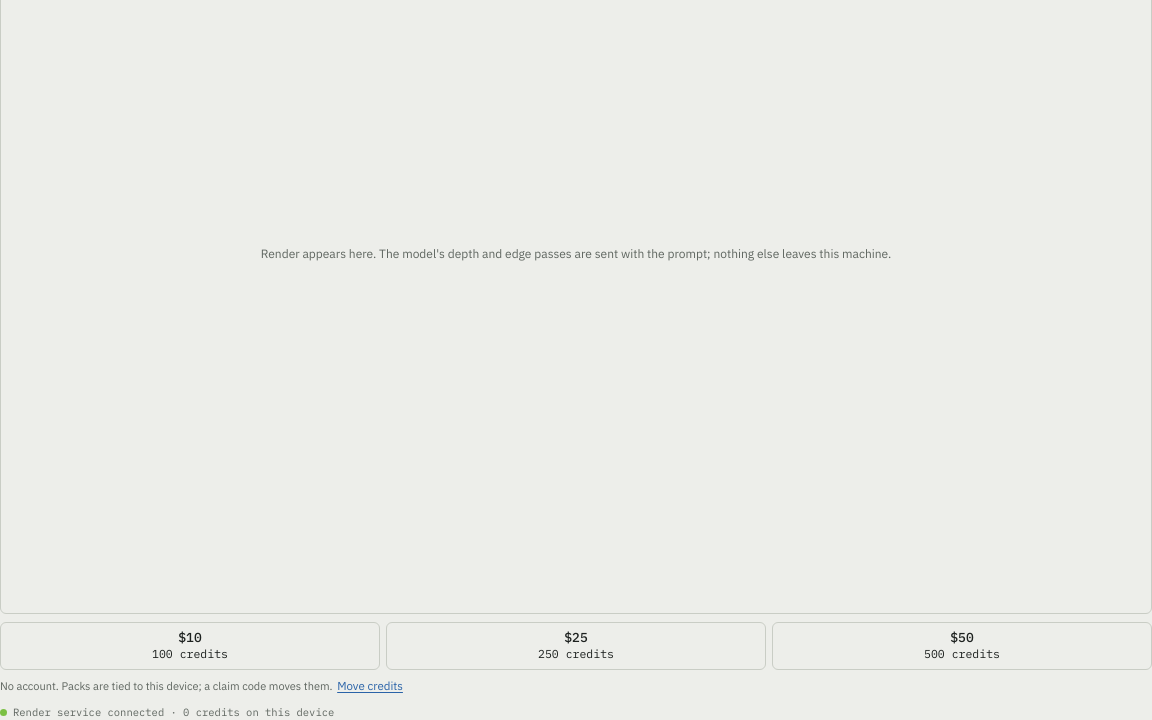
Test: Render pane › opens checkout in a new window from the click and watches for the credits
(page scrolled)
Click the button "$10 100 credits" at (190, 646), box [0,622,380,670]
(page scrolled)
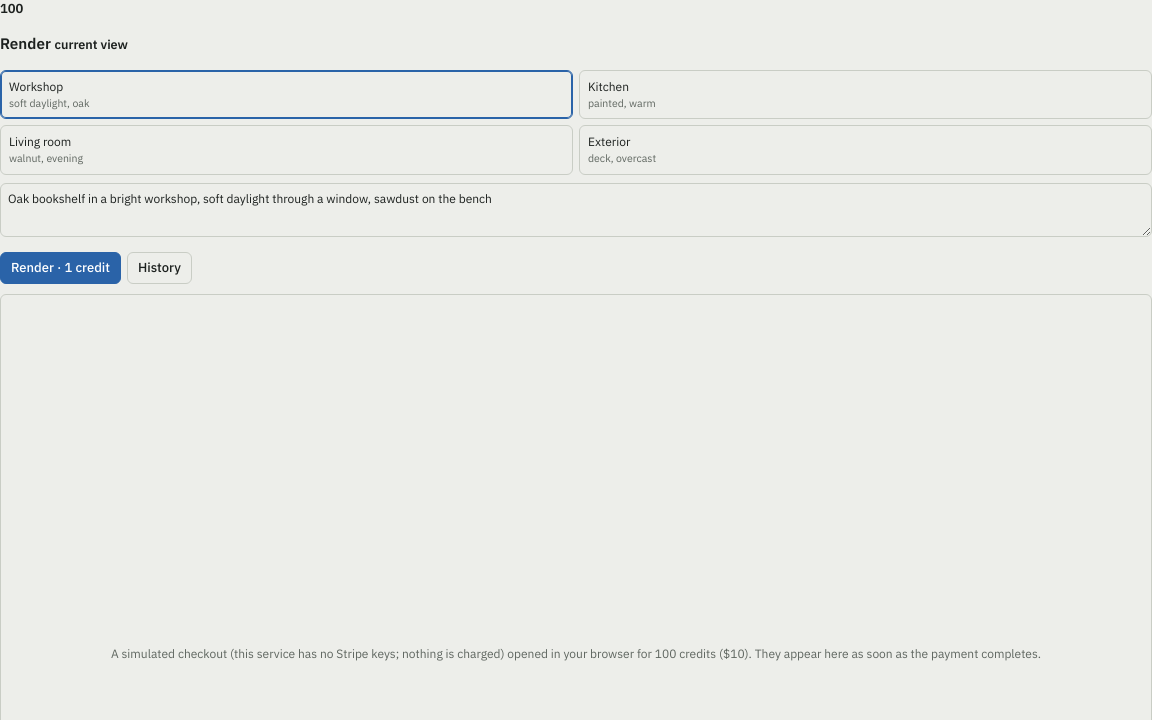
Check: the element with id "result" shows "simulated checkout", box [111,646,1041,661]
Check: the text with test id "chip" reads "100", box [0,0,23,17]
